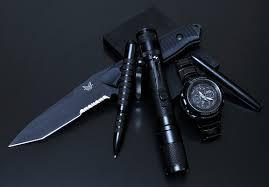Knife: (8, 21, 201, 148)
